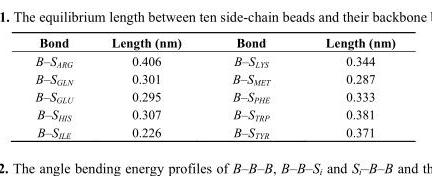table: (34, 34, 394, 139)
table column: (91, 34, 206, 139), (297, 34, 394, 139), (206, 34, 297, 139), (34, 34, 91, 139)
table column header: (34, 34, 394, 51)
table row: (34, 51, 394, 69), (34, 69, 394, 87), (34, 87, 394, 105), (34, 105, 394, 123), (34, 34, 394, 51), (34, 123, 394, 139)
